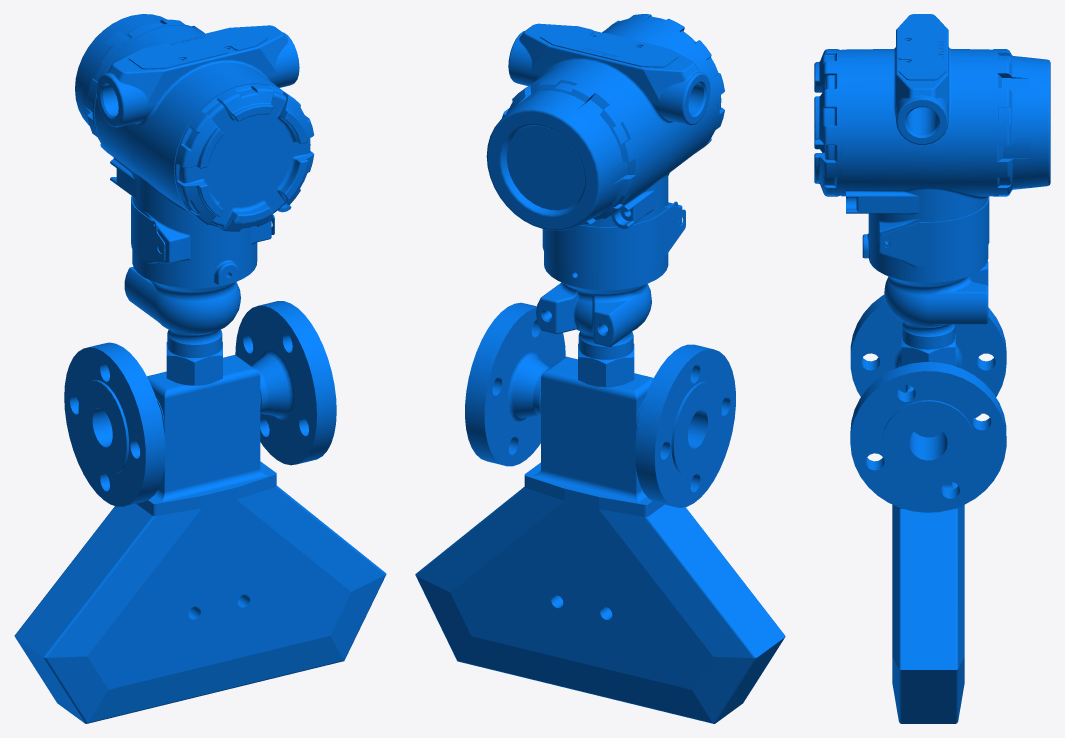
Rendered from 质量流体计.obj.
The picture shows the model from 3 angles, left to right: view 1: azimuth 30°, elevation 25°; view 2: azimuth 150°, elevation 25°; view 3: azimuth 270°, elevation 25°; orthographic projection. The views are drawn at different scales.
Parts seen in each view (by area): view 1: BRep_4, NONE, _____________________________GBT9115_2000___________, _____________________________GBT9115_2000____________1; view 2: BRep_4, NONE, _____________________________GBT9115_2000___________, _____________________________GBT9115_2000____________1; view 3: NONE, _____________________________GBT9115_2000____________1, BRep_4, _____________________________GBT9115_2000___________.
Part boxes in pixels (x1,y1,x2,y2): BRep_4: (14,355,386,723); NONE: (75,14,314,385); _____________________________GBT9115_2000___________: (64,342,165,506); _____________________________GBT9115_2000____________1: (235,301,336,465); BRep_4: (415,356,785,723); NONE: (486,14,724,387); _____________________________GBT9115_2000___________: (635,344,735,507); _____________________________GBT9115_2000____________1: (465,302,565,466); NONE: (814,14,1050,366); _____________________________GBT9115_2000____________1: (850,362,1006,512); BRep_4: (892,385,964,723); _____________________________GBT9115_2000___________: (850,294,1006,418).
Bounding box in the file's own units: 279 × 496 × 174.
